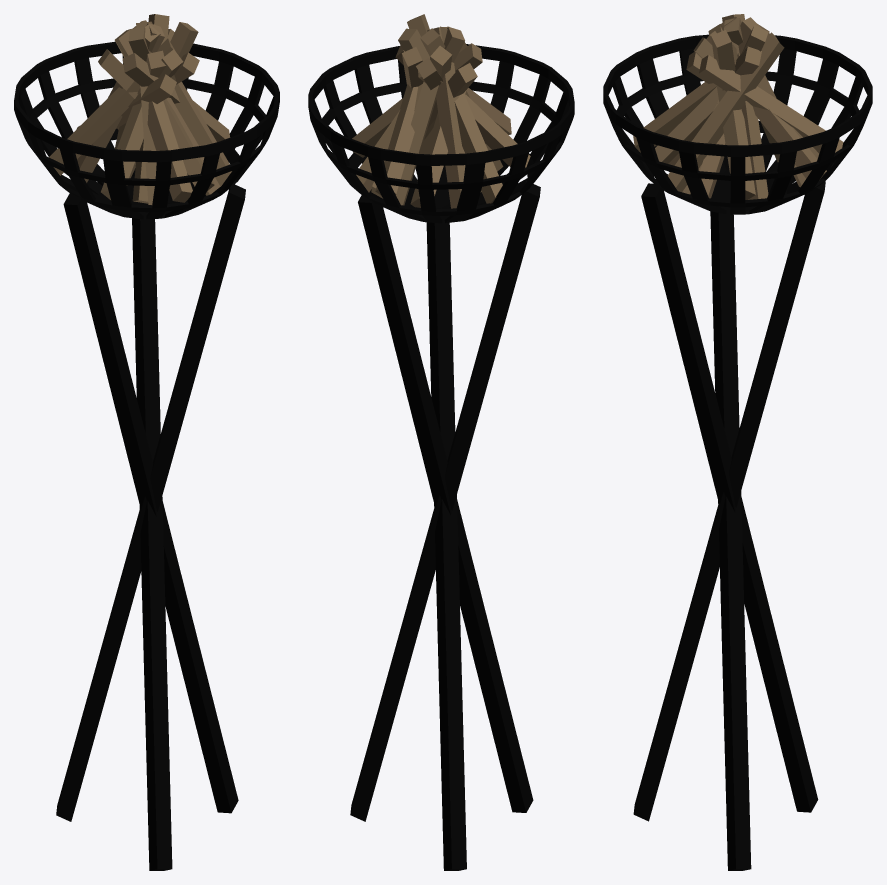
The model's file is bonfire.obj.
3 renders of one model, left to right at view 1: azimuth 30°, elevation 25°; view 2: azimuth 150°, elevation 25°; view 3: azimuth 270°, elevation 25°, orthographic.
Parts seen in each view (by area): view 1: 立方体; view 2: 立方体; view 3: 立方体.
Boxes of the visible parts, box(x1,y1,x2,y2) form: 立方体: box(14, 14, 279, 870); 立方体: box(308, 14, 574, 870); 立方体: box(603, 14, 872, 870).
Size of the model in its own units: 0.6278 by 2.1 by 0.6275.
Materials: 1 (1 with a texture image).
